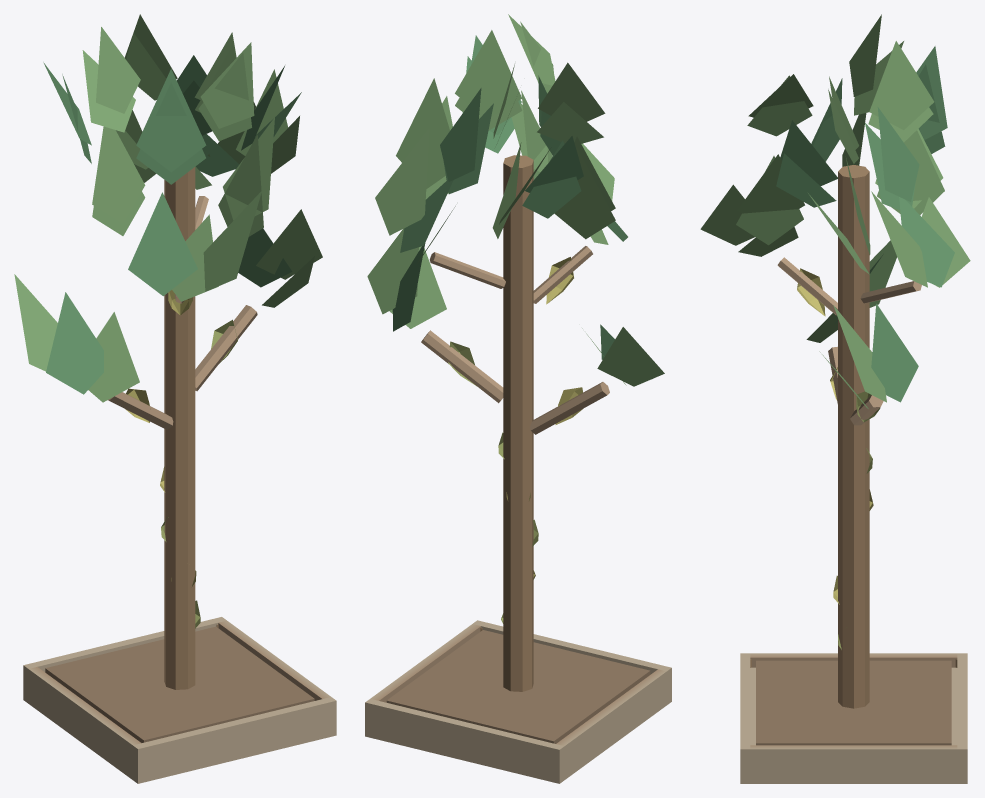
File: cacao_fruto_near.glb
3 views of the same model, side by side, from view 1: azimuth 30°, elevation 25°; view 2: azimuth 150°, elevation 25°; view 3: azimuth 270°, elevation 25° (orthographic). The views are drawn at different scales.
Visible parts, largest first — view 1: model; view 2: model; view 3: model.
Boxes of the visible parts, box(x1,y1,x2,y2) form: model: box(14, 14, 336, 783); model: box(365, 14, 671, 783); model: box(700, 14, 970, 783).
Size of the model in its own units: 1.51 by 3.35 by 1.19.
